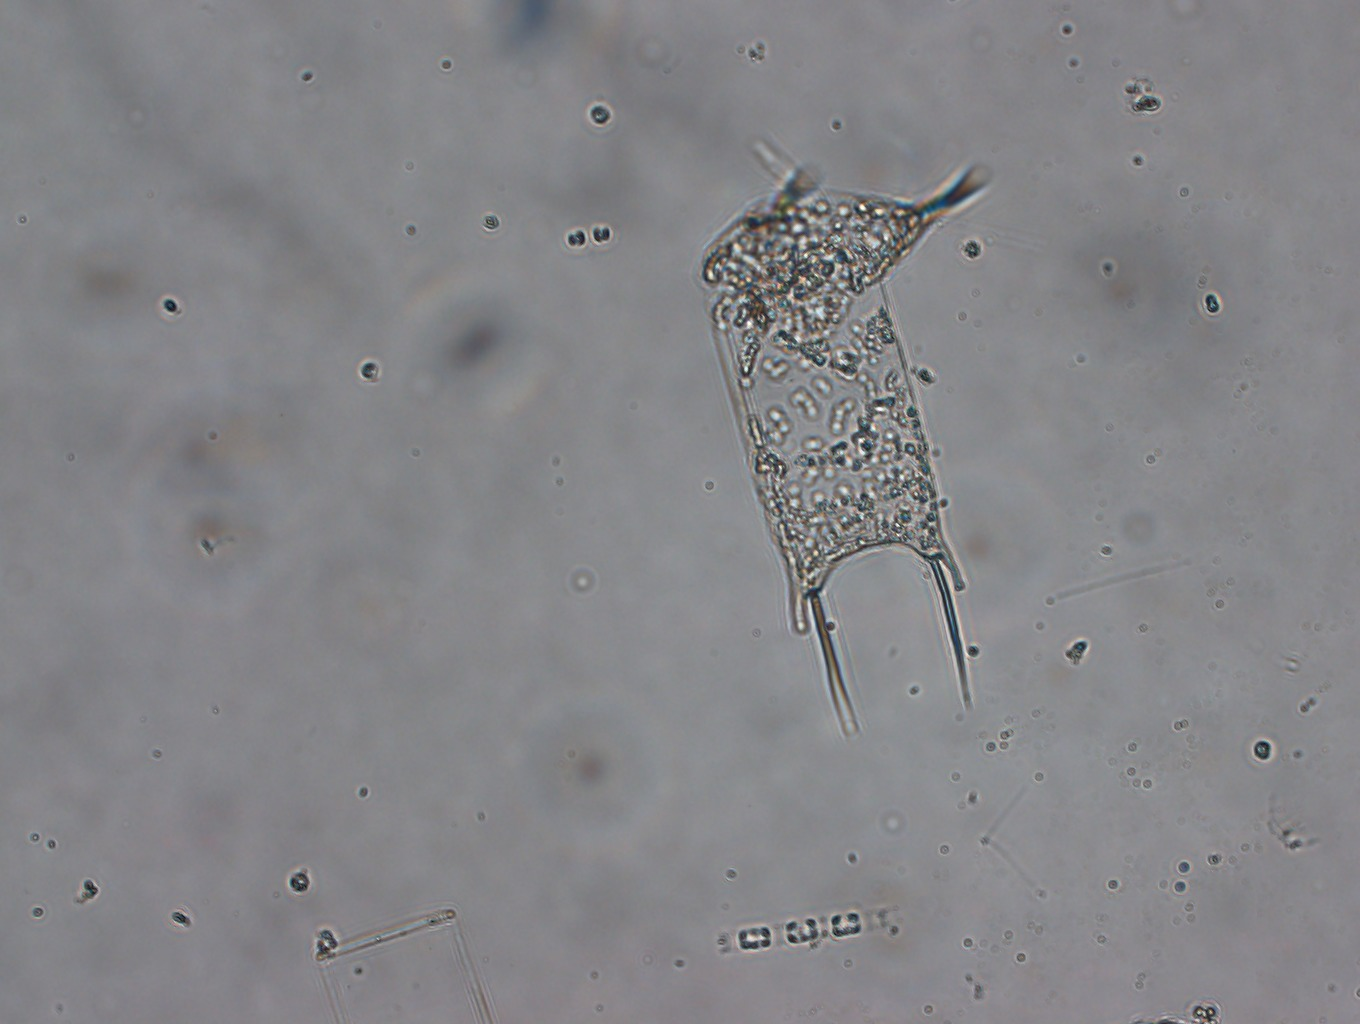biddulphia: (695, 134, 997, 736)
skeletonema: (712, 909, 899, 959)
